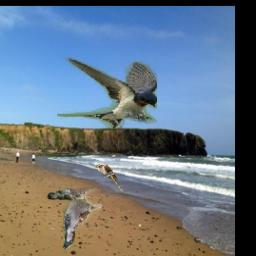Cuckoo: (94, 165, 123, 193)
Sparrow: (64, 188, 103, 249)
Swallow: (58, 56, 158, 128)
